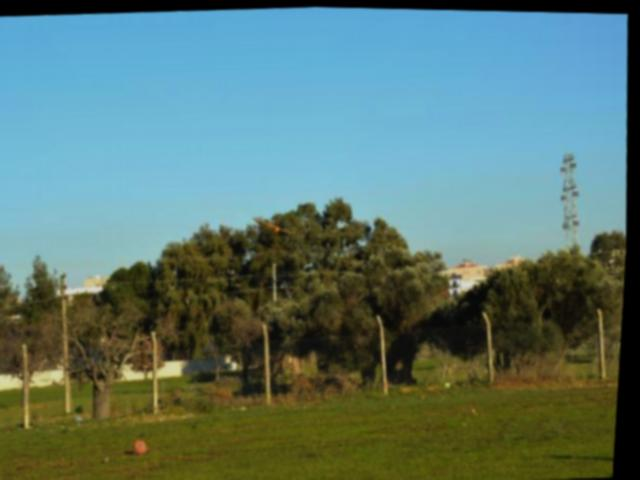iha: (254, 214, 299, 234)
